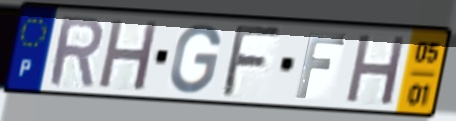F: (217, 24, 286, 100), (293, 30, 349, 101)
G: (167, 22, 224, 96)
H: (95, 16, 163, 93), (343, 31, 411, 108)
R: (46, 14, 105, 91)
